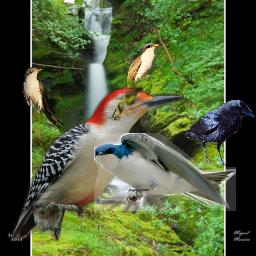Crow: (185, 100, 255, 167)
Cuckoo: (110, 41, 163, 122), (22, 67, 64, 128)
Swallow: (94, 133, 236, 211)
Woodpecker: (10, 88, 184, 242)
